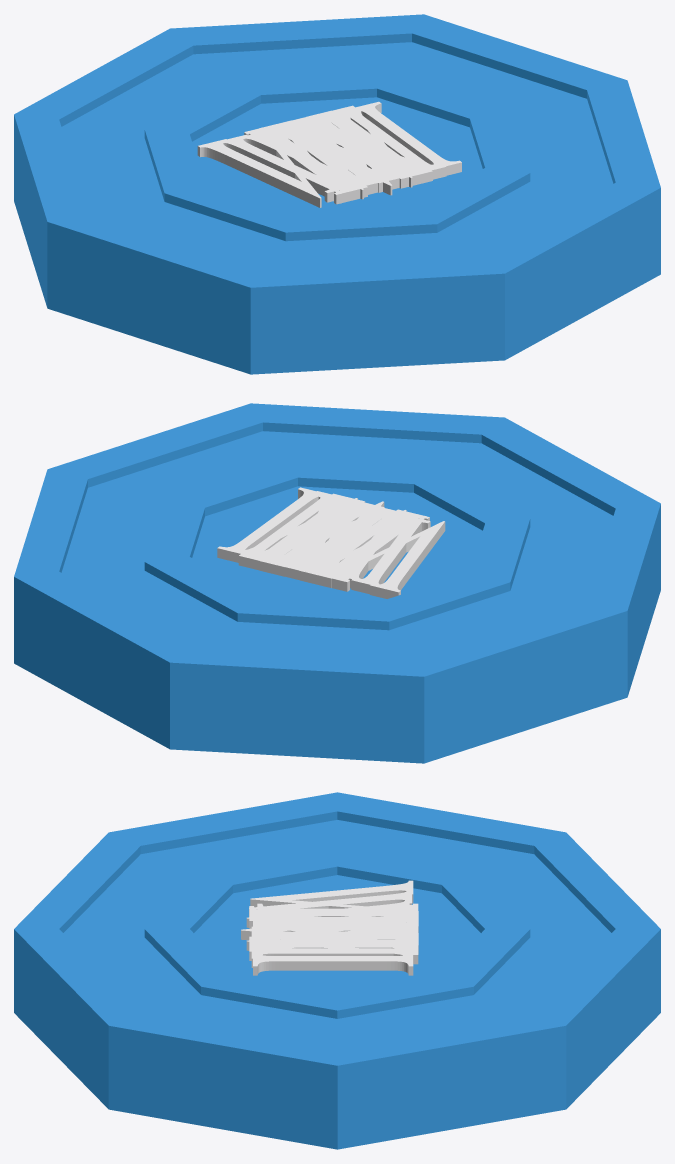
Rendered from MenuItems.dae.
3 renders of one model, top to bottom at view 1: azimuth 30°, elevation 25°; view 2: azimuth 150°, elevation 25°; view 3: azimuth 270°, elevation 25°, orthographic. The views are drawn at different scales.
Parts seen in each view (by area): view 1: _10, _1, _5, _8, _7, _2, _6, _9, _4, _3; view 2: _10, _1, _5, _8, _7, _2, _9, _4, _6, _3; view 3: _10, _1, _5, _8, _7, _2, _6, _4, _3, _9.
Boxes of the visible parts, left/top/right/bottom form: _10: left=14, top=14, right=660, bottom=374; _1: left=14, top=34, right=659, bottom=374; _5: left=14, top=14, right=659, bottom=371; _8: left=197, top=101, right=461, bottom=207; _7: left=222, top=106, right=446, bottom=203; _2: left=262, top=111, right=412, bottom=188; _6: left=240, top=112, right=432, bottom=199; _9: left=244, top=105, right=434, bottom=200; _4: left=258, top=108, right=412, bottom=204; _3: left=244, top=107, right=430, bottom=202; _10: left=14, top=403, right=660, bottom=763; _1: left=14, top=423, right=660, bottom=762; _5: left=14, top=403, right=660, bottom=756; _8: left=217, top=487, right=445, bottom=598; _7: left=234, top=491, right=424, bottom=594; _2: left=262, top=500, right=412, bottom=577; _9: left=238, top=496, right=429, bottom=591; _4: left=238, top=498, right=429, bottom=577; _6: left=255, top=493, right=406, bottom=588; _3: left=245, top=496, right=430, bottom=591; _10: left=14, top=792, right=660, bottom=1149; _1: left=15, top=813, right=660, bottom=1149; _5: left=14, top=793, right=660, bottom=1096; _8: left=250, top=880, right=413, bottom=975; _7: left=249, top=890, right=411, bottom=967; _2: left=257, top=912, right=417, bottom=943; _6: left=246, top=900, right=409, bottom=960; _4: left=246, top=906, right=409, bottom=956; _3: left=257, top=903, right=413, bottom=951; _9: left=258, top=903, right=418, bottom=964.
Size of the model in its own units: 2 by 2 by 0.2892.
